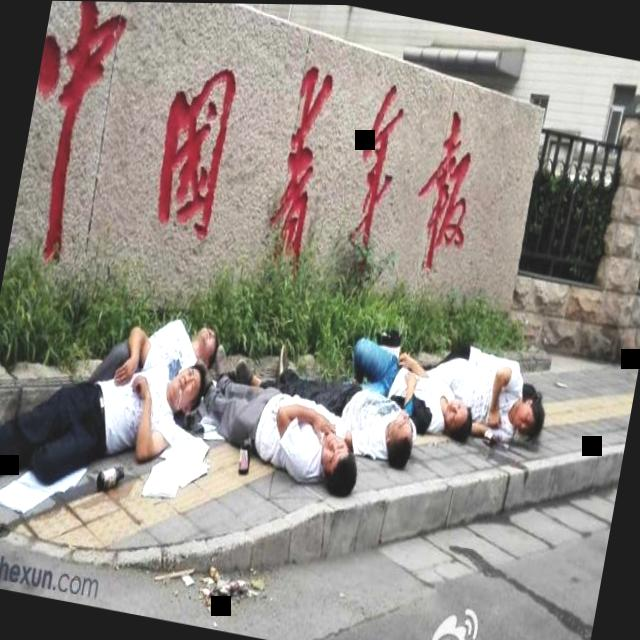Fall-Detected: (328, 317, 488, 465)
